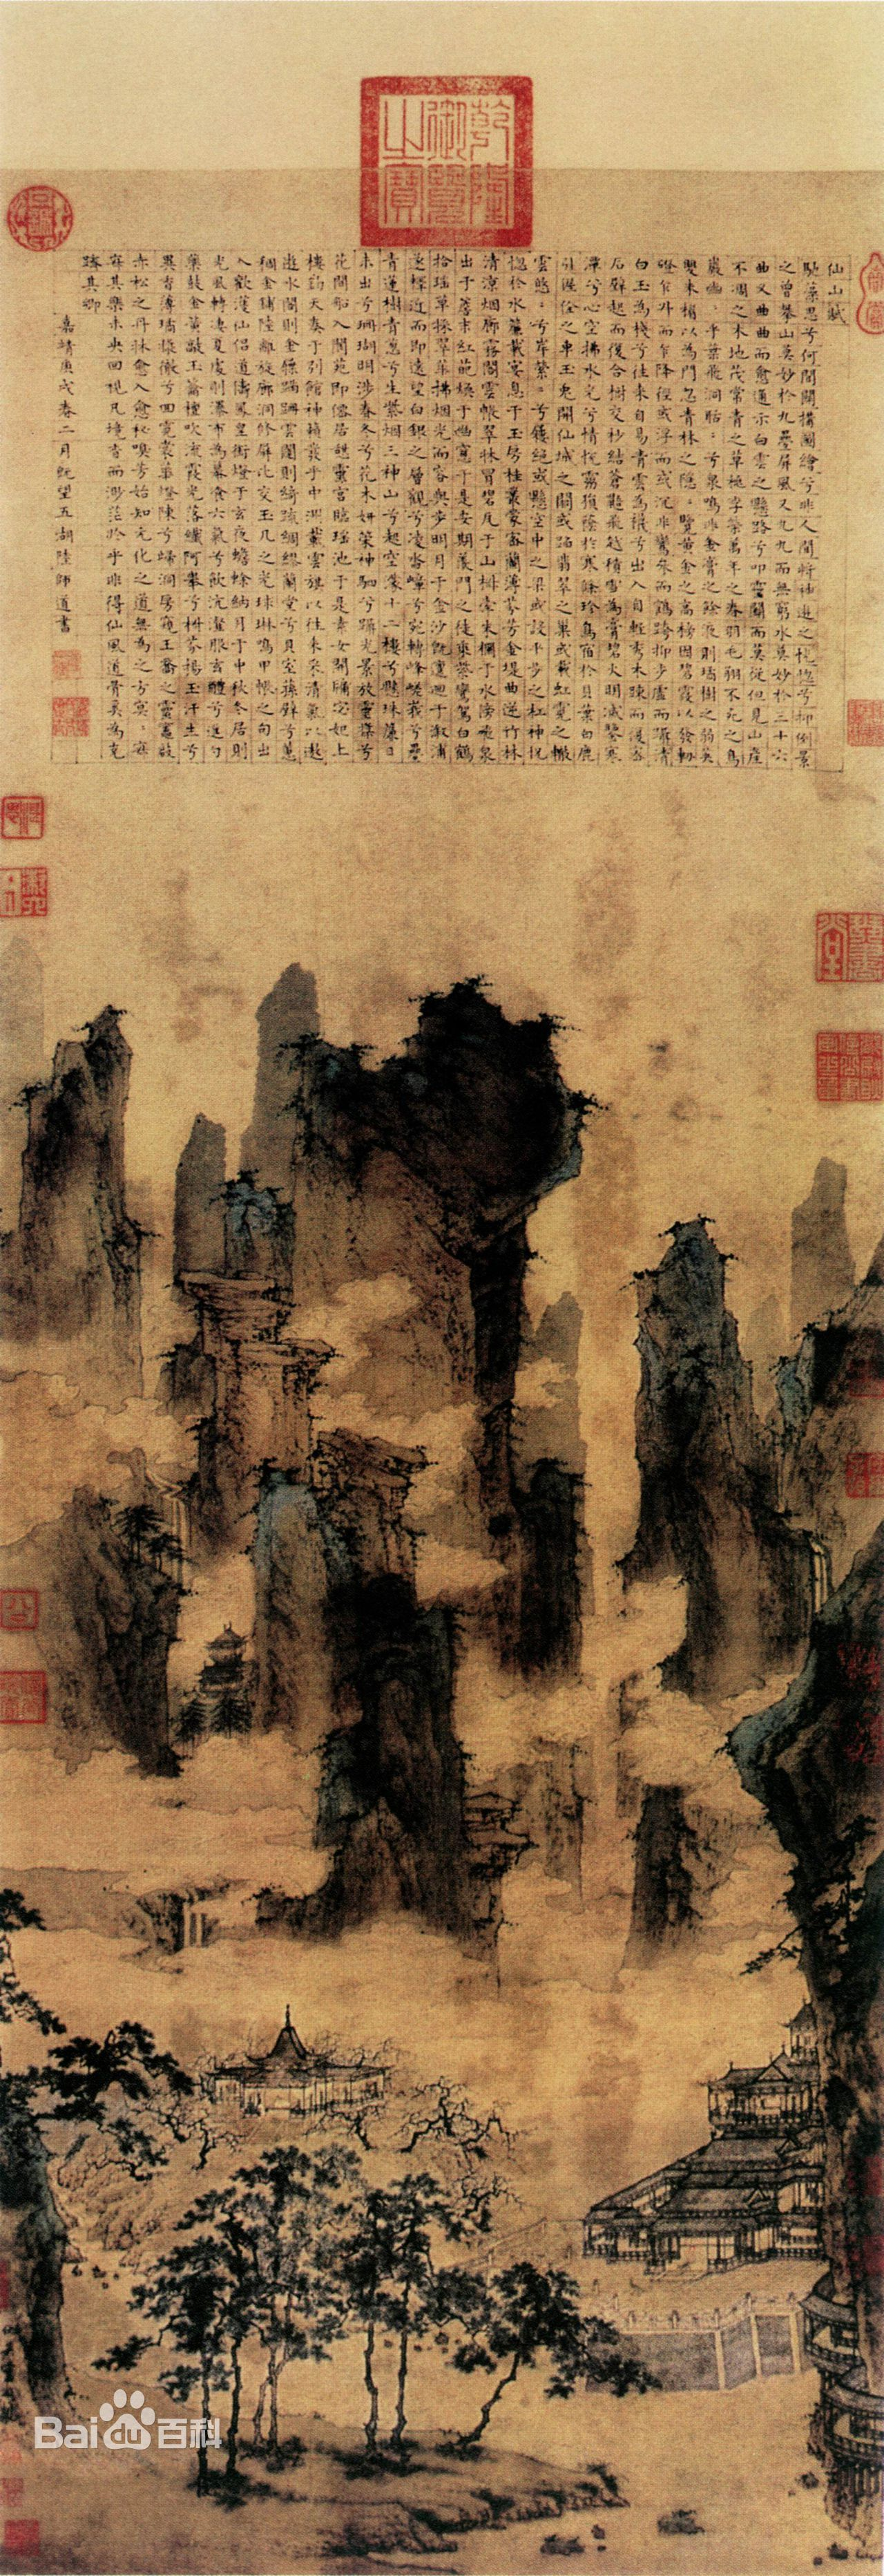house: (628, 2021, 826, 2244), (204, 2019, 388, 2111)
mountain: (327, 1043, 564, 1459), (274, 1465, 473, 1922), (644, 1226, 810, 1682), (186, 1119, 307, 1513), (0, 1493, 176, 1759), (754, 1715, 884, 2027), (44, 1035, 148, 1393), (826, 1267, 884, 1730), (835, 2034, 884, 2362), (518, 1480, 598, 1663), (634, 1786, 700, 1953)
tree: (215, 2175, 421, 2333), (154, 2285, 261, 2471), (473, 2349, 529, 2435), (396, 2315, 416, 2433), (368, 2316, 384, 2436)
wall: (677, 2316, 810, 2384), (485, 2224, 564, 2256), (638, 2338, 667, 2367)
